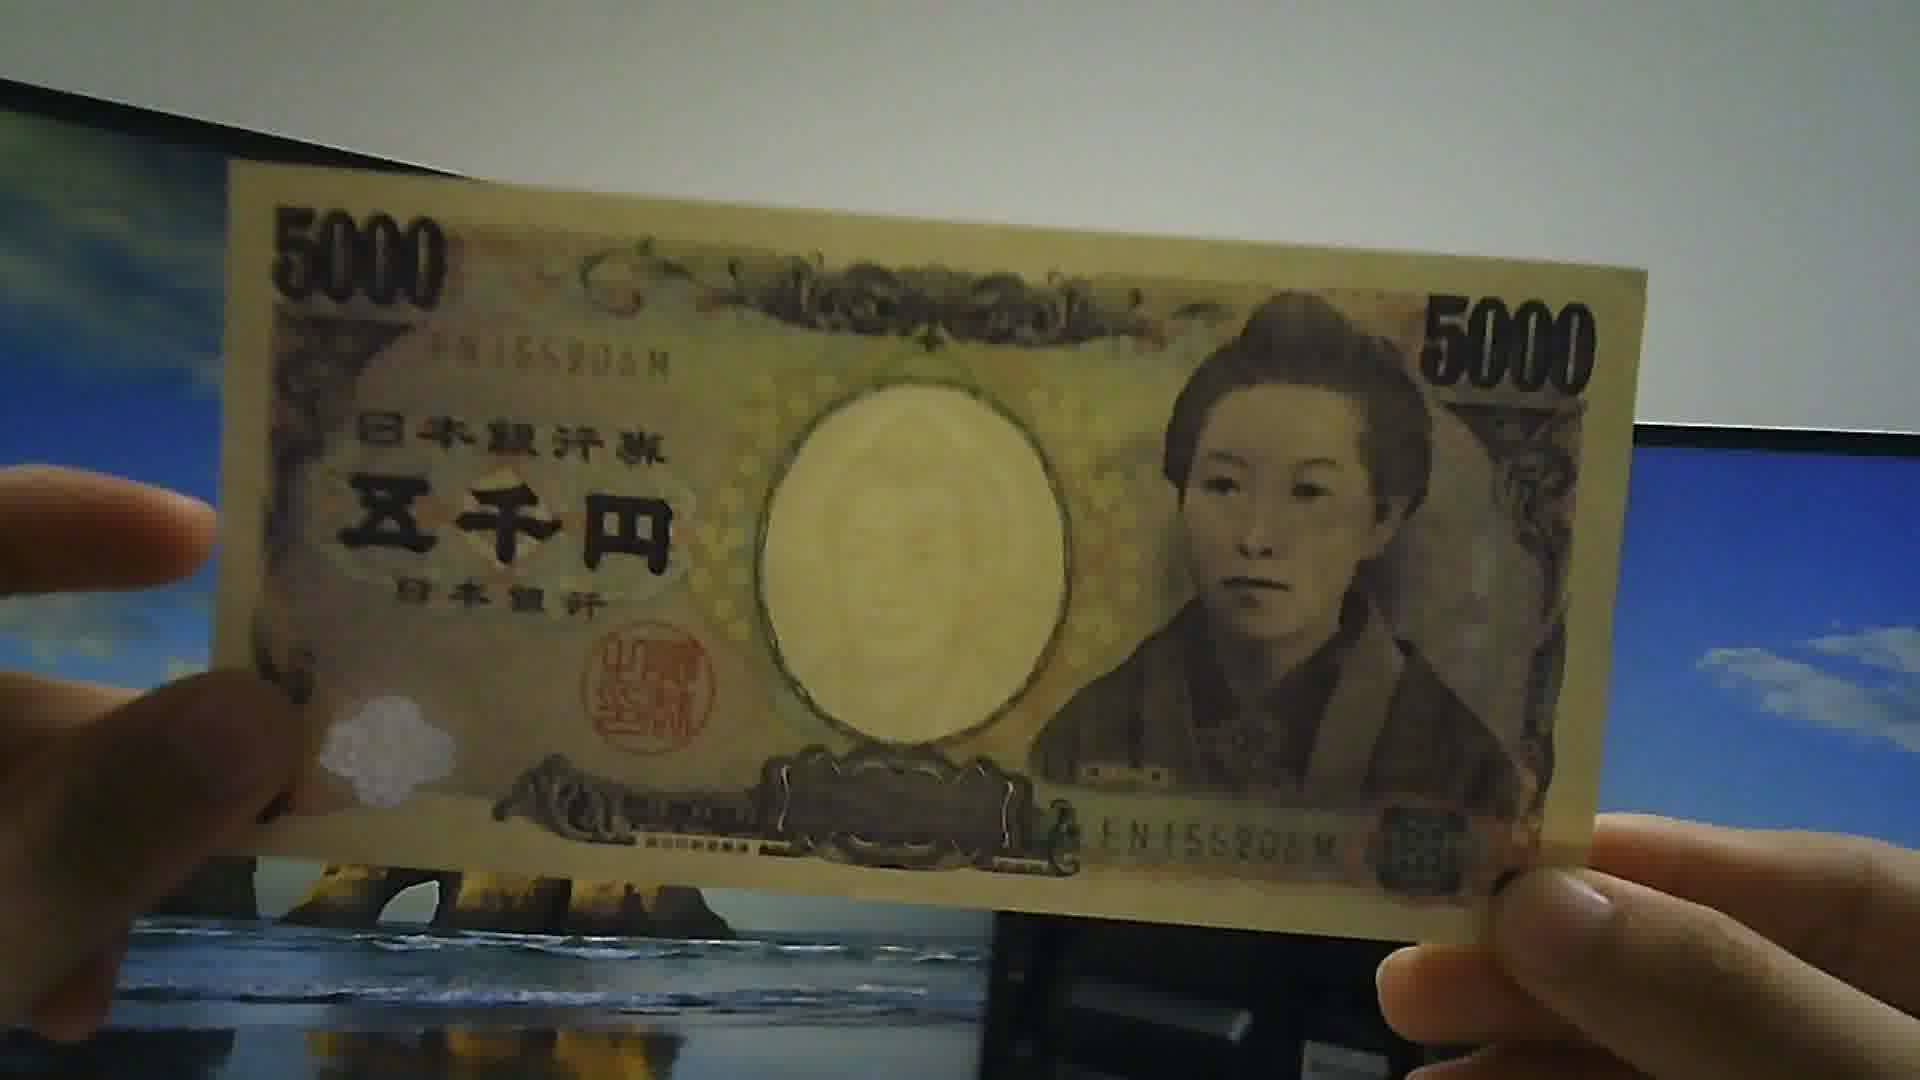5,000 Yen: (195, 146, 1626, 993)
